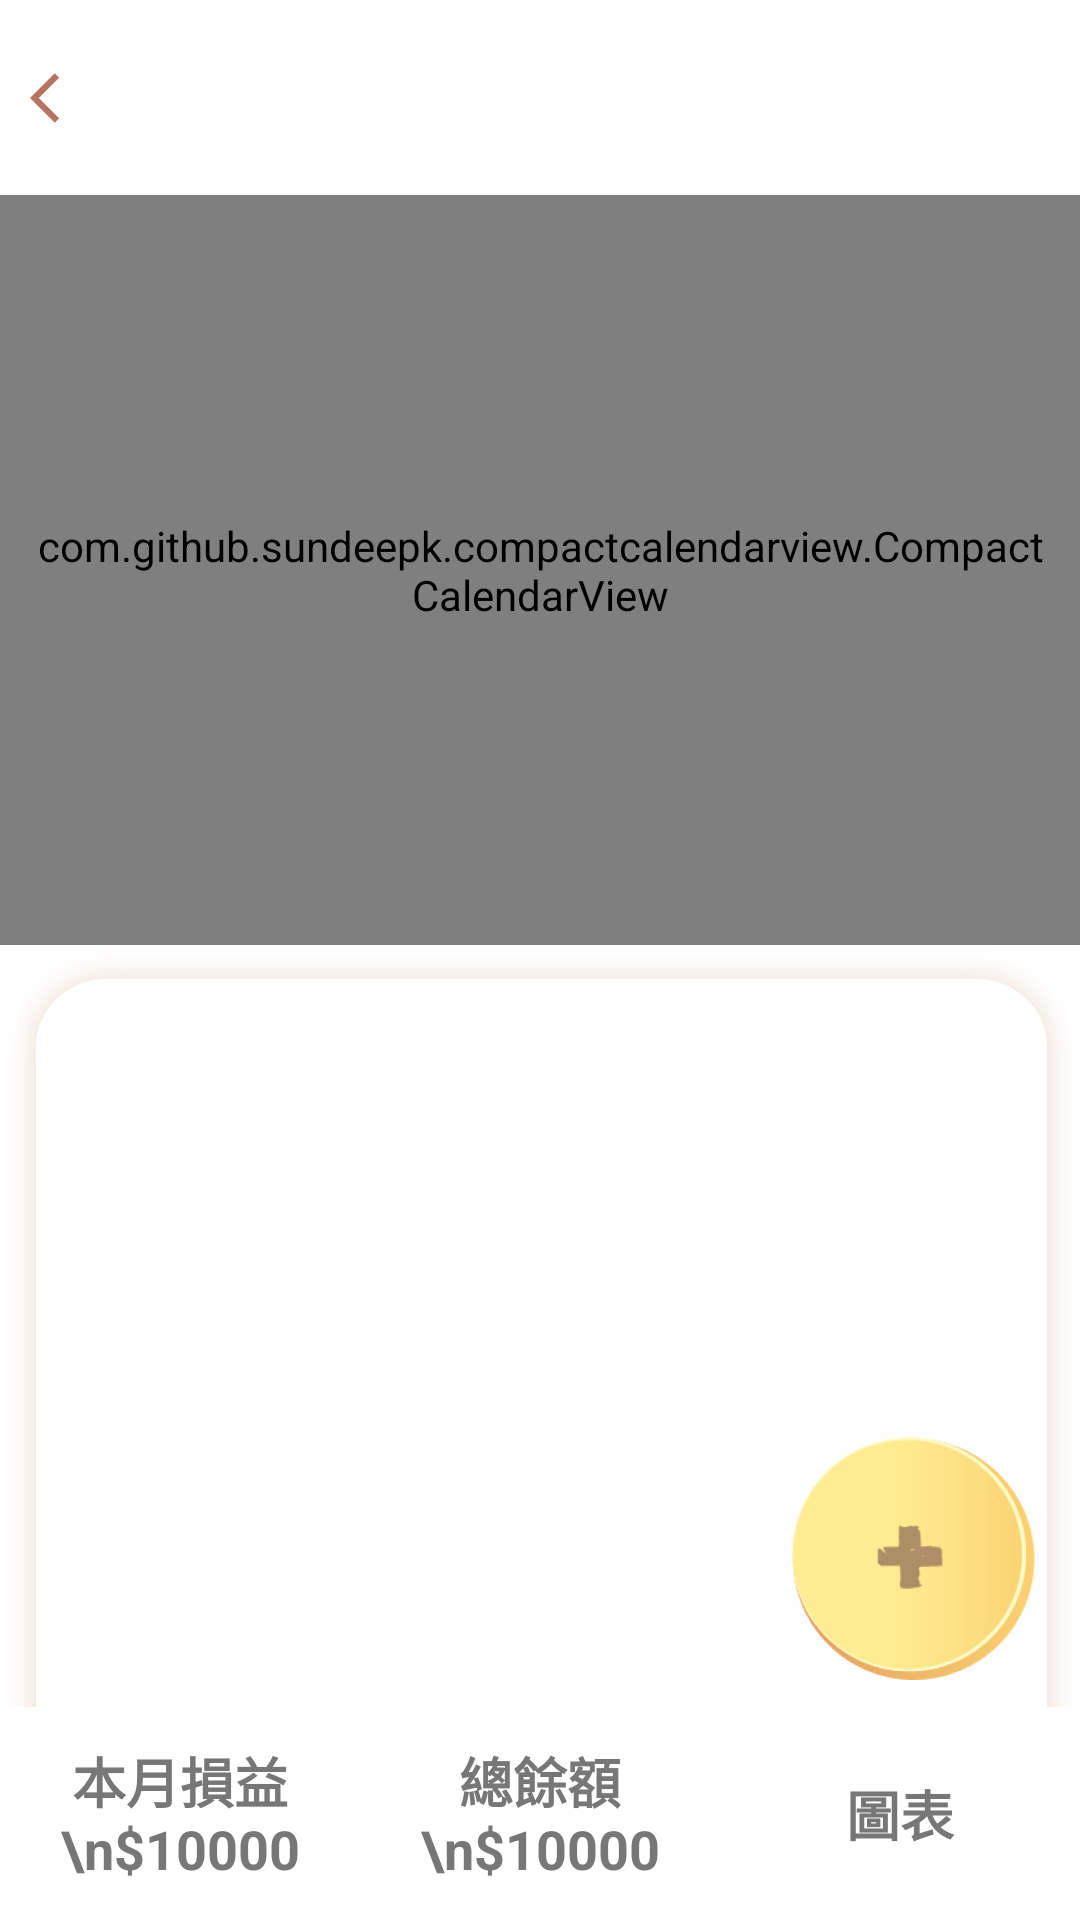

Named icons in this screenshot (1080px×1920px) and their centers, point (x, y):
pre arrow: point (44, 98)
